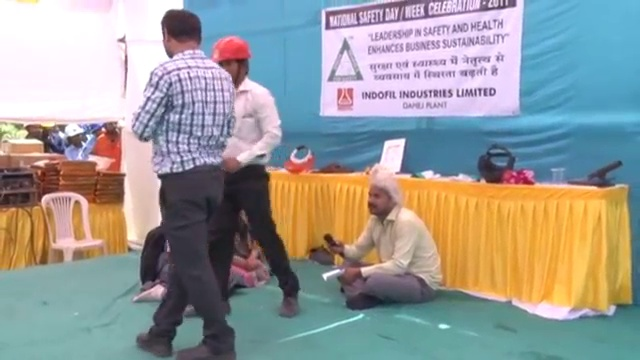helmet: (212, 35, 253, 65), (87, 154, 116, 172), (62, 124, 87, 140), (87, 123, 102, 135)
helmet_off: (152, 5, 205, 64), (359, 175, 404, 226), (24, 122, 45, 140), (104, 121, 119, 135)
helmet_on: (210, 35, 252, 83), (62, 124, 85, 150), (86, 122, 104, 139)
person: (132, 2, 234, 360), (205, 35, 301, 321), (323, 173, 442, 317), (130, 227, 199, 300), (95, 124, 121, 172), (61, 125, 87, 162)
